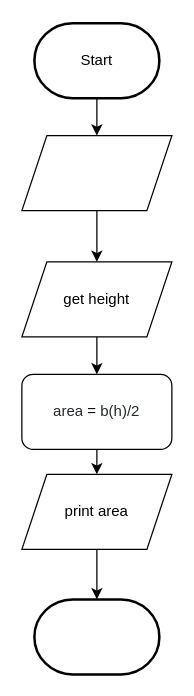
The diagram is 194 pixels wide and 696 high, and some of its shapes have lost their labels. The shapes that lost their labels are listed below. From the top down, each one's centre as x and y in pixels, then its label:
(96,172): Get base
(96,636): Stop
